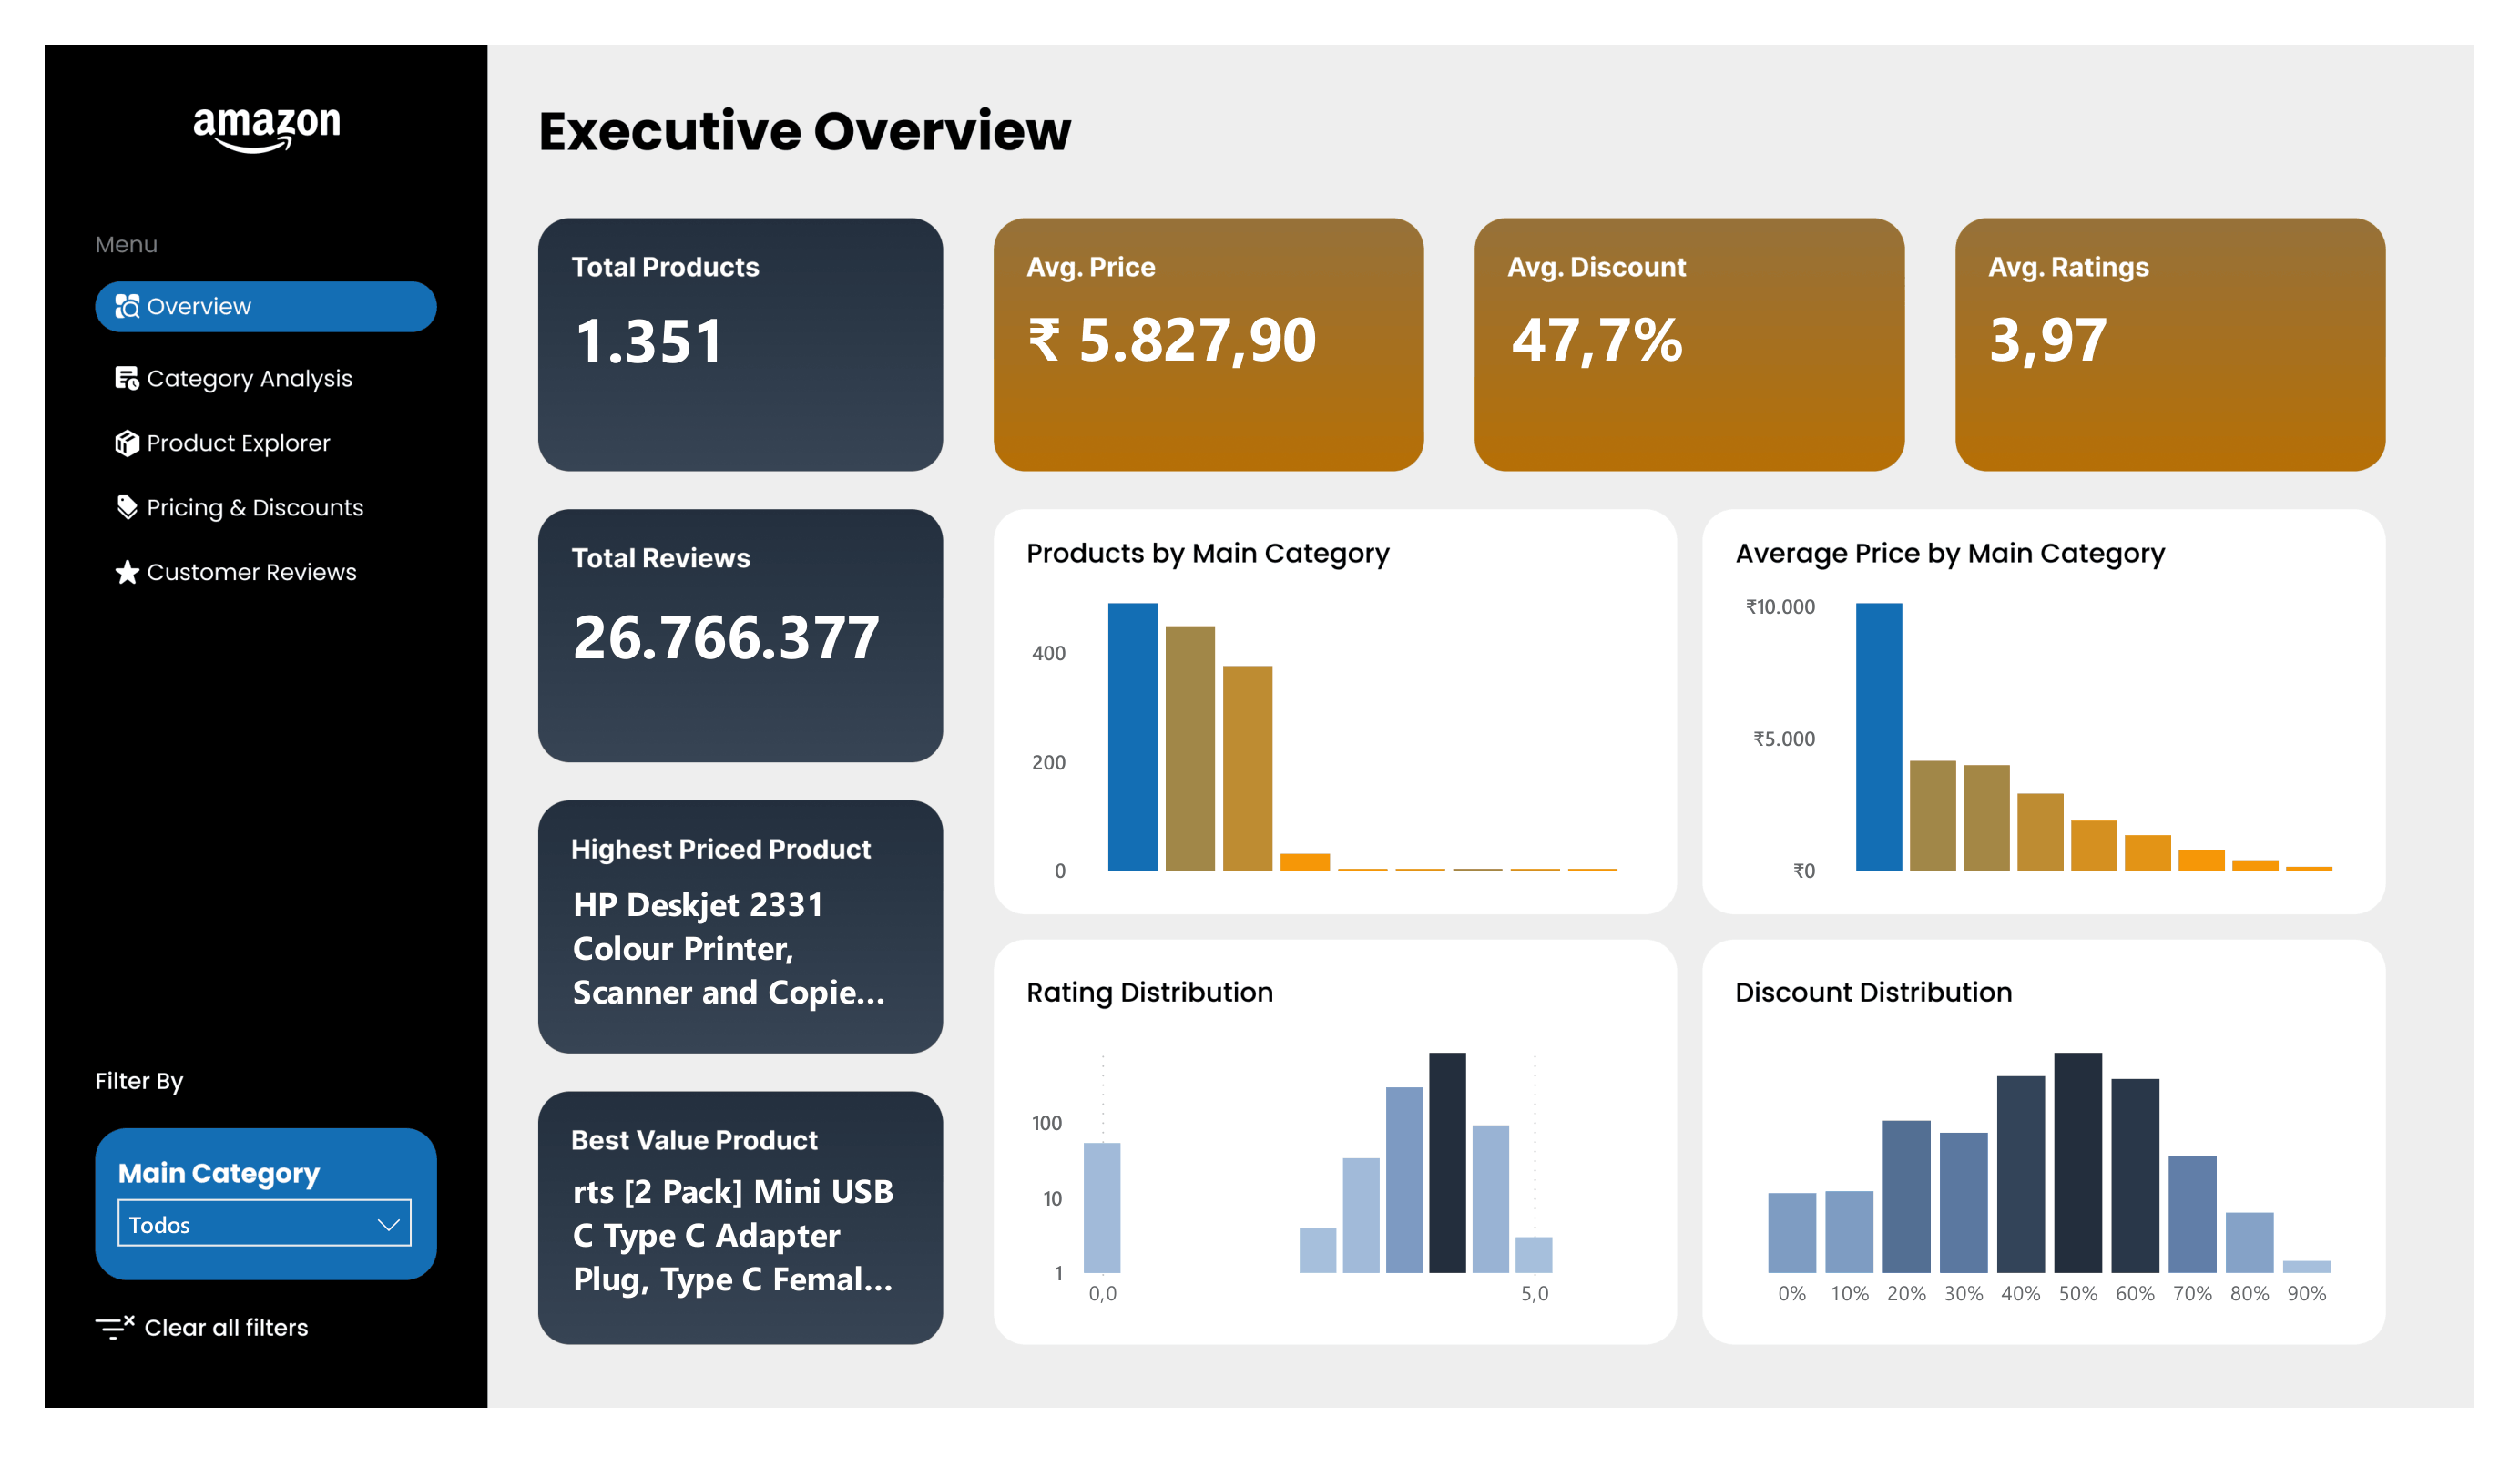

This screenshot's page, from the dashboard's own definition file:
{"tool":"powerbi","page":{"name":"Overview","canvas":[1280,720],"ordinal":0},"visuals":[{"type":"cardVisual","fields":{"Data":["Medidas.Total Products"]},"box":[261,114,174,77],"z":0},{"type":"cardVisual","fields":{"Data":["Medidas.Total Reviews"]},"box":[261,270,204,76],"z":1000},{"type":"cardVisual","fields":{"Data":["Medidas.Average Price"]},"box":[500,114.3,204.3,75.7],"z":2000},{"type":"cardVisual","fields":{"Data":["Medidas.Average Discount"]},"box":[755.7,114.3,202.9,75.7],"z":3000},{"type":"cardVisual","fields":{"Data":["Medidas.Average Rating"]},"box":[1007.1,114.3,204.3,75.7],"z":4000},{"type":"cardVisual","fields":{"Data":["Medidas.Highest Priced Product"]},"box":[261,407,204,135],"z":5000},{"type":"cardVisual","fields":{"Data":["Medidas.Best Value Product"]},"box":[261,558,204,135],"z":6000},{"type":"clusteredColumnChart","fields":{"Category":["amazon.Main Category"],"Y":["Medidas.Average Price Num"]},"box":[891.1,280,331.1,167.8],"z":7000},{"type":"columnChart","fields":{"Category":["amazon.Main Category"],"Y":["Medidas.Total Products Num"]},"box":[514.9,280.4,331.1,168],"z":8000},{"type":"clusteredColumnChart","fields":{"Y":["Medidas.Total Products Num"],"Category":["amazon.rating_correct (bins)"]},"box":[515,517,331,158],"z":9000},{"type":"clusteredColumnChart","fields":{"Y":["Medidas.Total Products Num"],"Category":["amazon.Discount Range"]},"box":[891,517,331,158],"z":10000},{"type":"slicer","fields":{"Values":["amazon.Main Category"]},"box":[33.3,603.3,165,36.7],"z":11000},{"type":"actionButton","box":[15.7,656.4,181.6,35.8],"z":12000},{"type":"actionButton","box":[24.3,124.4,181.6,28.6],"z":13000},{"type":"actionButton","box":[24.7,161.3,182,28.7],"z":14000},{"type":"actionButton","box":[24.7,196.7,182,28.7],"z":15000},{"type":"actionButton","box":[24.7,265.3,182,28.7],"z":16000},{"type":"actionButton","box":[24.7,230.7,182,28.7],"z":17000}]}

Visuals, with their boxes on the page's 1280x720 design canvas (x1, y1, x2, y2). These are canvas units, not pixel positions in the 2520x1457 screenshot, which may show the page scaled, cropped or inside an application window:
cardVisual - Medidas.Total Products: bbox=(261, 114, 435, 191)
cardVisual - Medidas.Total Reviews: bbox=(261, 270, 465, 346)
cardVisual - Medidas.Average Price: bbox=(500, 114, 704, 190)
cardVisual - Medidas.Average Discount: bbox=(756, 114, 959, 190)
cardVisual - Medidas.Average Rating: bbox=(1007, 114, 1211, 190)
cardVisual - Medidas.Highest Priced Product: bbox=(261, 407, 465, 542)
cardVisual - Medidas.Best Value Product: bbox=(261, 558, 465, 693)
clusteredColumnChart - amazon.Main Category x Medidas.Average Price Num: bbox=(891, 280, 1222, 448)
columnChart - amazon.Main Category x Medidas.Total Products Num: bbox=(515, 280, 846, 448)
clusteredColumnChart - Medidas.Total Products Num x amazon.rating_correct (bins): bbox=(515, 517, 846, 675)
clusteredColumnChart - Medidas.Total Products Num x amazon.Discount Range: bbox=(891, 517, 1222, 675)
slicer - amazon.Main Category: bbox=(33, 603, 198, 640)
actionButton: bbox=(16, 656, 197, 692)
actionButton: bbox=(24, 124, 206, 153)
actionButton: bbox=(25, 161, 207, 190)
actionButton: bbox=(25, 197, 207, 225)
actionButton: bbox=(25, 265, 207, 294)
actionButton: bbox=(25, 231, 207, 259)
